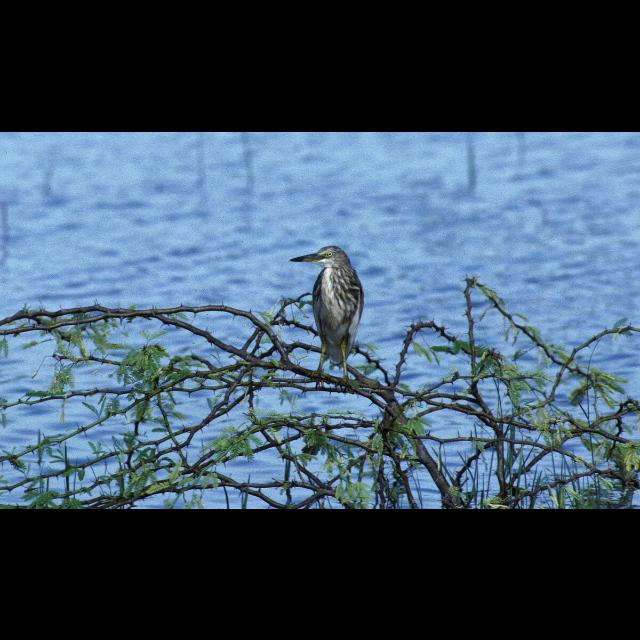heron: (286, 236, 370, 398)
